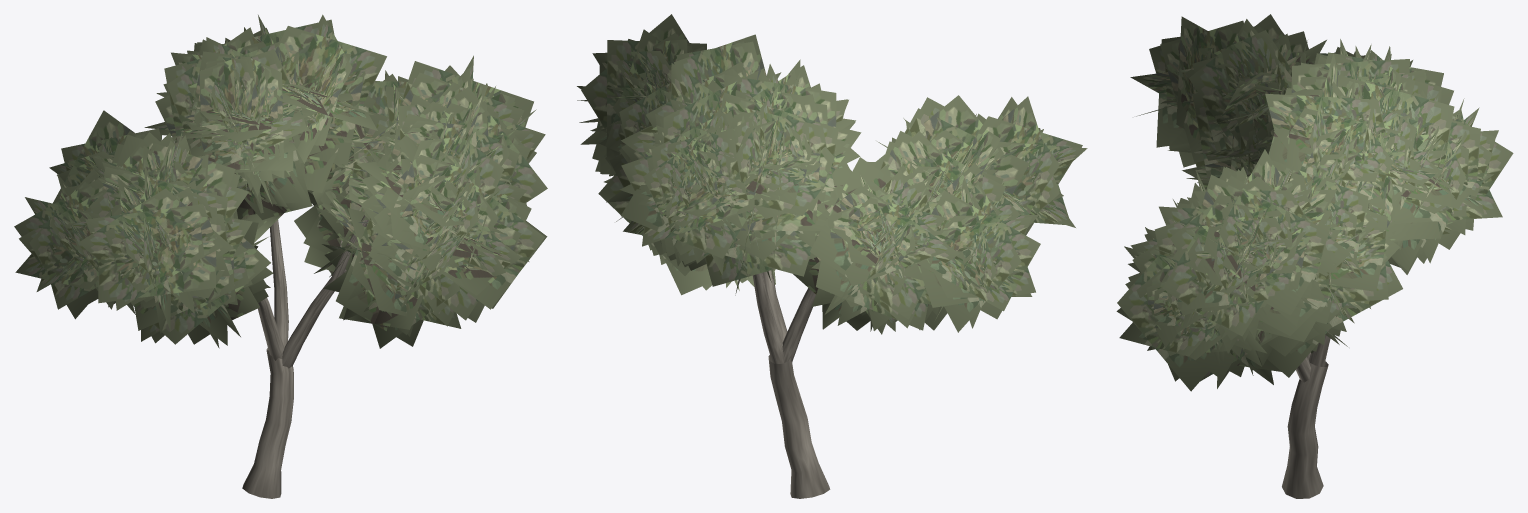
Rendered from veg_olive_b.fbx.
3 renders of one model, left to right at view 1: azimuth 30°, elevation 25°; view 2: azimuth 150°, elevation 25°; view 3: azimuth 270°, elevation 25°, orthographic. The views are drawn at different scales.
Visible parts, largest first — view 1: veg_olive_b_LOD0; view 2: veg_olive_b_LOD0; view 3: veg_olive_b_LOD0.
Part boxes in pixels (box(x1,y1,x2,y2)): veg_olive_b_LOD0: box(14, 14, 547, 498); veg_olive_b_LOD0: box(577, 14, 1087, 498); veg_olive_b_LOD0: box(1116, 14, 1513, 498).
Size of what is drawn, in the model's own units: 5.04 by 4.56 by 3.58.
2 materials, 2 textured.
